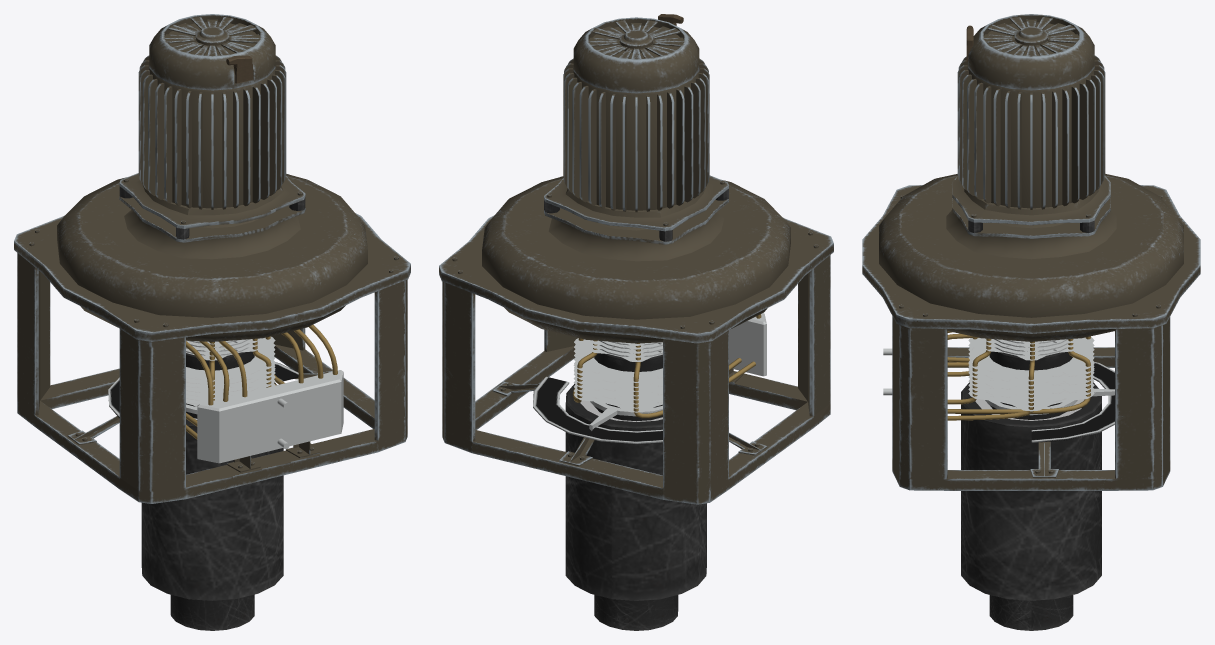
File: OreMachine.FBX
The picture shows the model from 3 angles, left to right: view 1: azimuth 30°, elevation 25°; view 2: azimuth 150°, elevation 25°; view 3: azimuth 270°, elevation 25°; orthographic projection.
Parts seen in each view (by area): view 1: Reductor, OreBox, Enjeen, Bearing, Radiator, MainShaft, Attributes; view 2: Reductor, OreBox, Enjeen, Bearing, Radiator, MainShaft; view 3: Reductor, Enjeen, OreBox, Bearing, Radiator, MainShaft.
Boxes of the visible parts, x1=… form: Reductor: x1=14, y1=173, x2=410, y2=355; OreBox: x1=17, y1=253, x2=407, y2=503; Enjeen: x1=119, y1=14, x2=305, y2=228; Bearing: x1=141, y1=382, x2=283, y2=600; Radiator: x1=186, y1=324, x2=343, y2=463; MainShaft: x1=170, y1=347, x2=272, y2=630; Attributes: x1=29, y1=55, x2=398, y2=468; Reductor: x1=439, y1=176, x2=833, y2=356; OreBox: x1=442, y1=255, x2=830, y2=504; Enjeen: x1=544, y1=17, x2=728, y2=231; Bearing: x1=565, y1=384, x2=706, y2=600; Radiator: x1=572, y1=313, x2=766, y2=418; MainShaft: x1=576, y1=349, x2=678, y2=630; Reductor: x1=862, y1=174, x2=1200, y2=355; Enjeen: x1=952, y1=14, x2=1110, y2=225; OreBox: x1=892, y1=316, x2=1170, y2=490; Bearing: x1=961, y1=382, x2=1101, y2=600; Radiator: x1=883, y1=331, x2=1094, y2=420; MainShaft: x1=971, y1=347, x2=1114, y2=630.
Bounding box in the file's own units: 80.47 × 151 × 79.25.
Materials: 1 (1 with a texture image).
